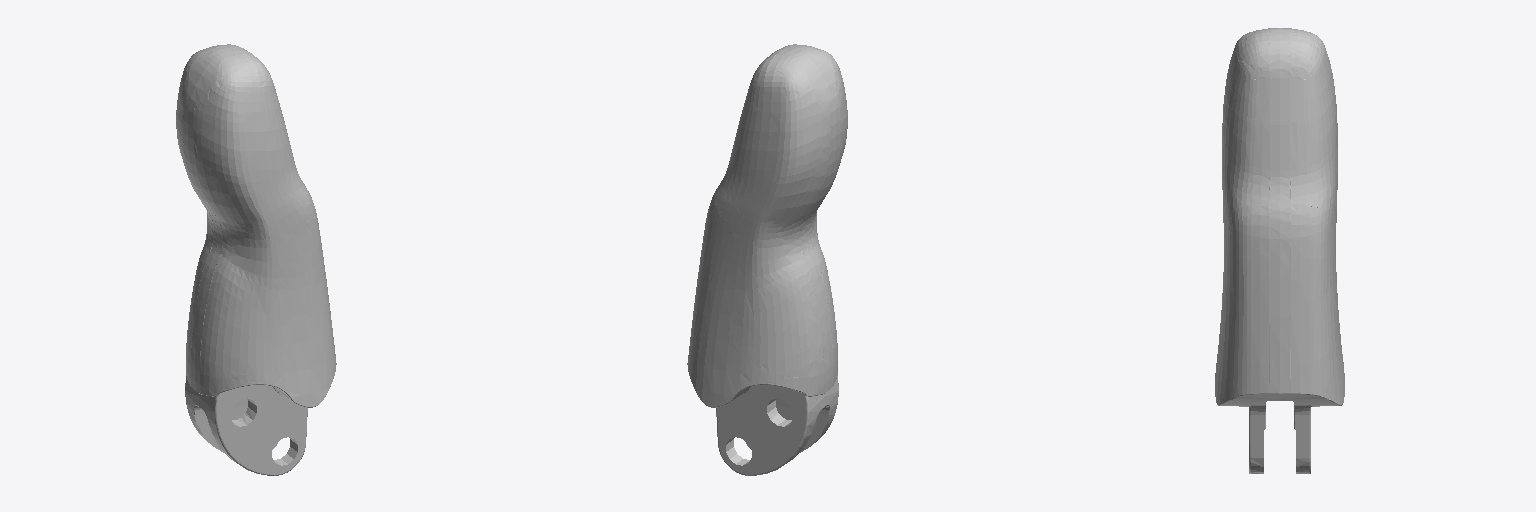
The picture shows the model from 3 angles: view 1: azimuth 30°, elevation 25°; view 2: azimuth 150°, elevation 25°; view 3: azimuth 270°, elevation 25°; orthographic projection.
Visible parts, largest first — view 1: Link22_R; view 2: Link22_R; view 3: Link22_R.
Part boxes in pixels (x1,y1,x2,y2): Link22_R: (176, 44, 336, 475); Link22_R: (687, 44, 847, 475); Link22_R: (1215, 28, 1344, 473).
Size of the model in its own units: 0.0153 by 0.0452 by 0.0127.